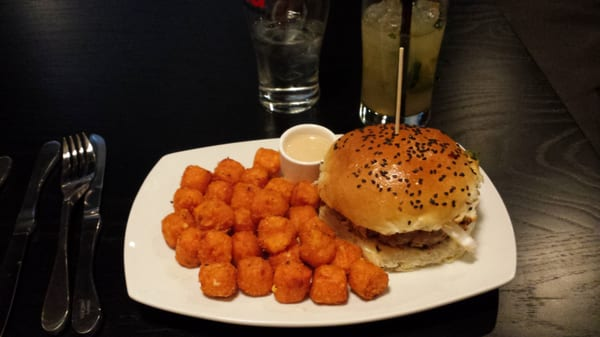sandwich: (38, 131, 98, 334), (0, 141, 61, 336), (71, 129, 102, 334)
soup: (314, 123, 482, 271)
